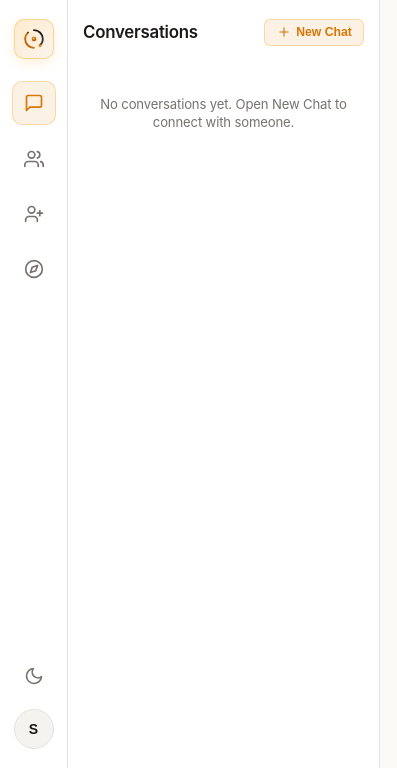
Test: ConversationsComponent › should toggle dropdown menu when avatar badge is clicked
This screenshot has width=397, height=768.
Step 1. Click the button with test id "user-avatar-badge" → (34, 729), box 14,709 -> 54,749
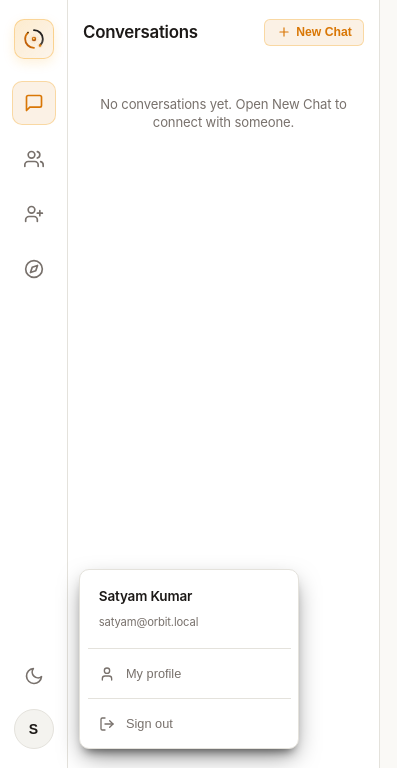
expect the menu with test id "user-dropdown-menu" is shown: met, box 79,569 -> 299,749
Note: Toggle closed on another click
Step 2. Click the button with test id "user-avatar-badge" → (34, 729), box 14,709 -> 54,749
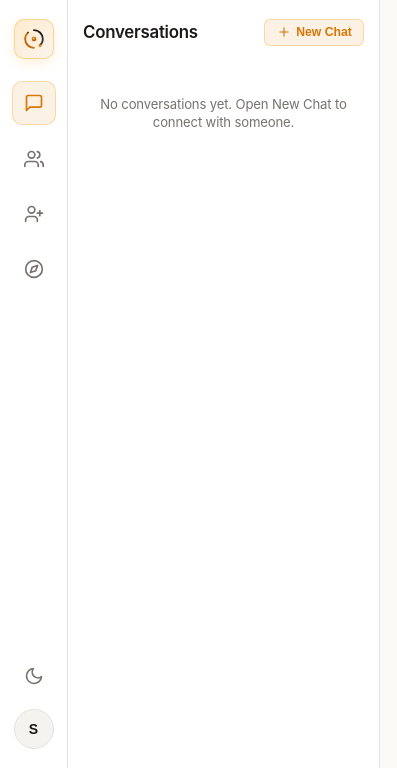
expect the menu with test id "user-dropdown-menu" is gone: met
